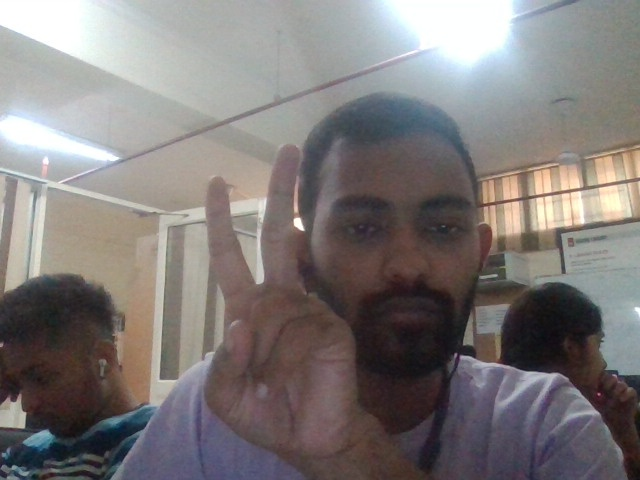ThankYou: (202, 143, 361, 470)
